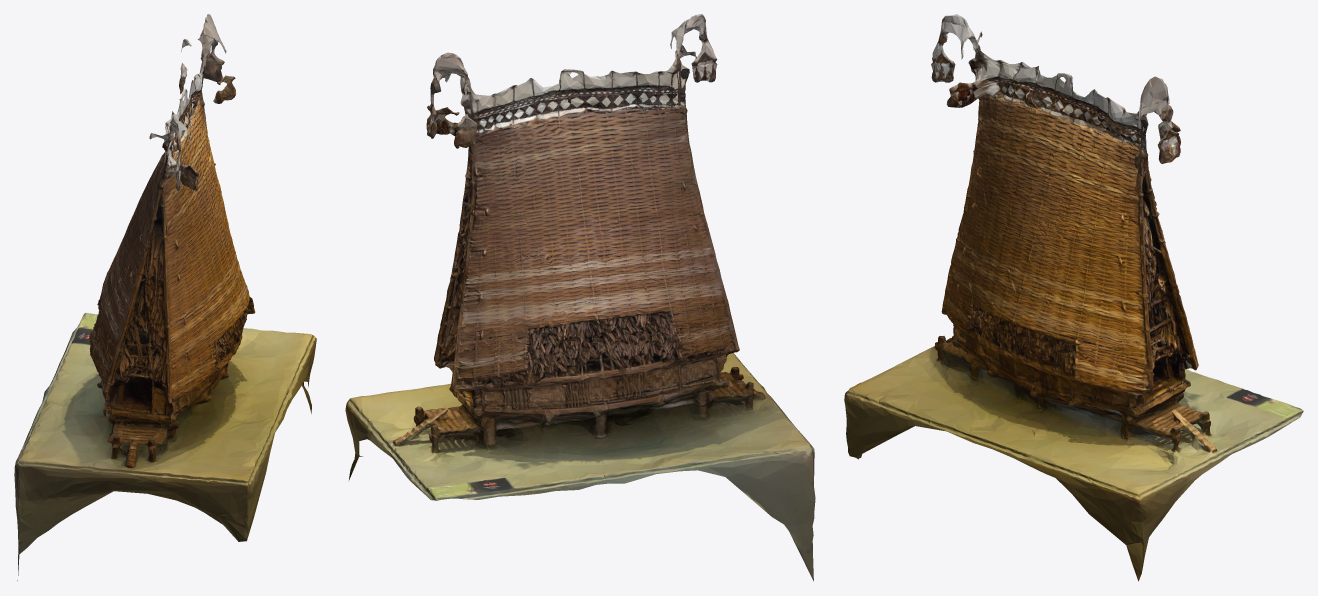
Rendered from Mô hình nhà rông Kon Tum.glb.
3 views of the same model, side by side, from view 1: azimuth 30°, elevation 25°; view 2: azimuth 150°, elevation 25°; view 3: azimuth 270°, elevation 25° (orthographic). The views are drawn at different scales.
Bounding box in the file's own units: 1.24 × 1.51 × 1.27.
1 material, 1 textured.
